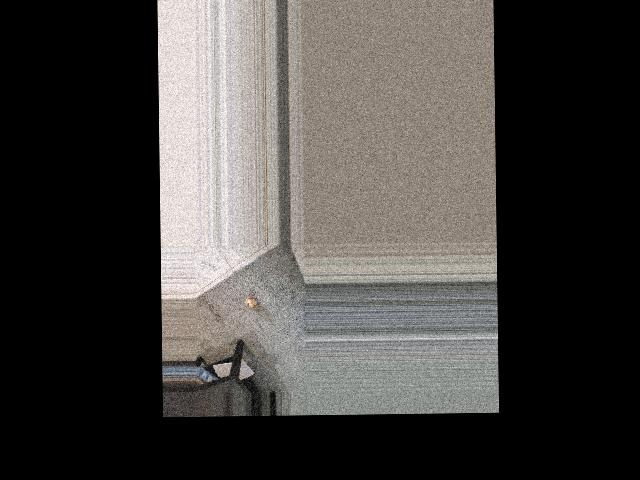onion: (244, 293, 261, 309)
